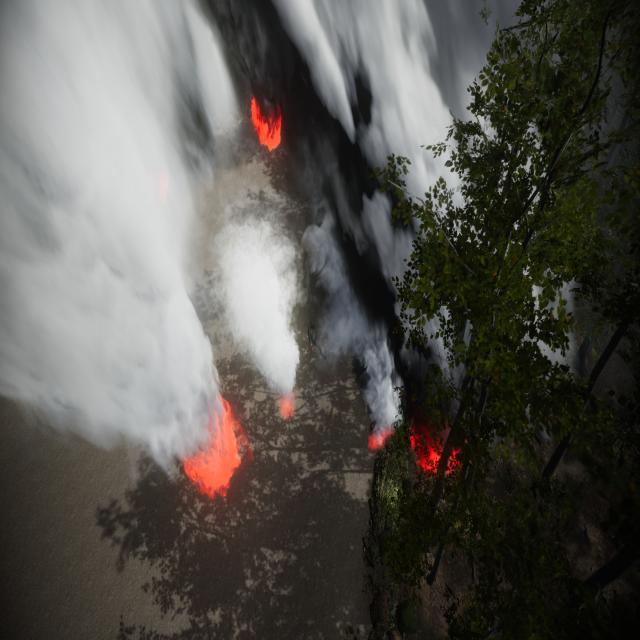Human: (303, 310, 337, 374)
